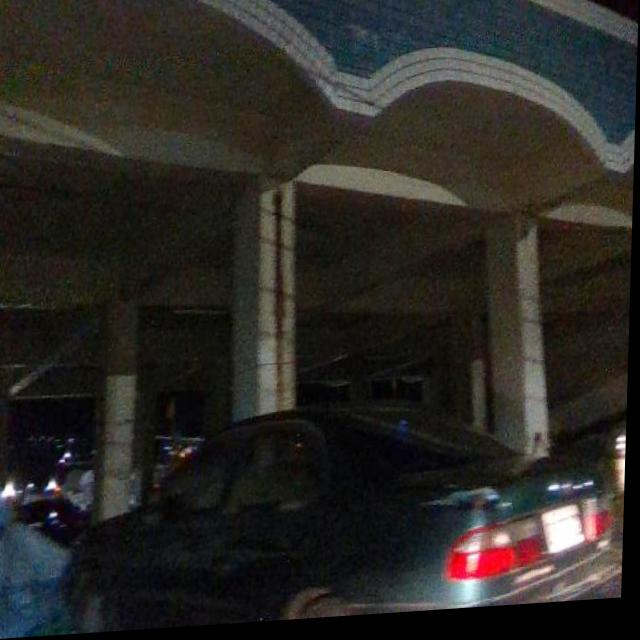pollute: (0, 478, 86, 639)
